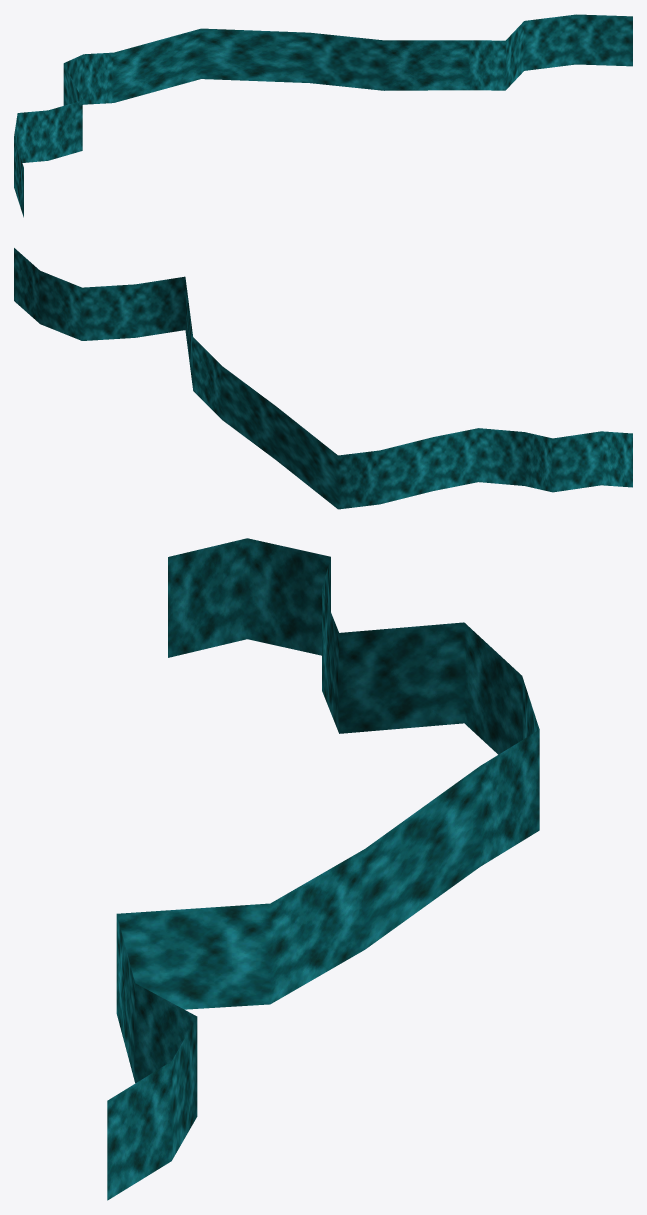
File: MIRKWOOD_FOGJ.fbx
3 views of the same model, one above another, from view 1: azimuth 30°, elevation 25°; view 2: azimuth 150°, elevation 25°; view 3: azimuth 270°, elevation 25° (orthographic). The views are drawn at different scales.
Parts seen in each view (by area): view 1: MIRKWOOD_FOGJ; view 2: MIRKWOOD_FOGJ; view 3: MIRKWOOD_FOGJ.
Boxes of the visible parts, x1,y1,x2,y2 form: MIRKWOOD_FOGJ: (14, 14, 632, 217); MIRKWOOD_FOGJ: (14, 248, 632, 509); MIRKWOOD_FOGJ: (107, 538, 539, 1200).
Size of the model in its own units: 1020462 by 135508 by 321696.
Materials: 1 (1 with a texture image).
